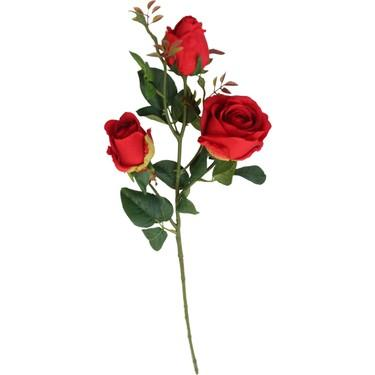Rose: (196, 89, 273, 169), (96, 105, 163, 184), (158, 10, 216, 93)
